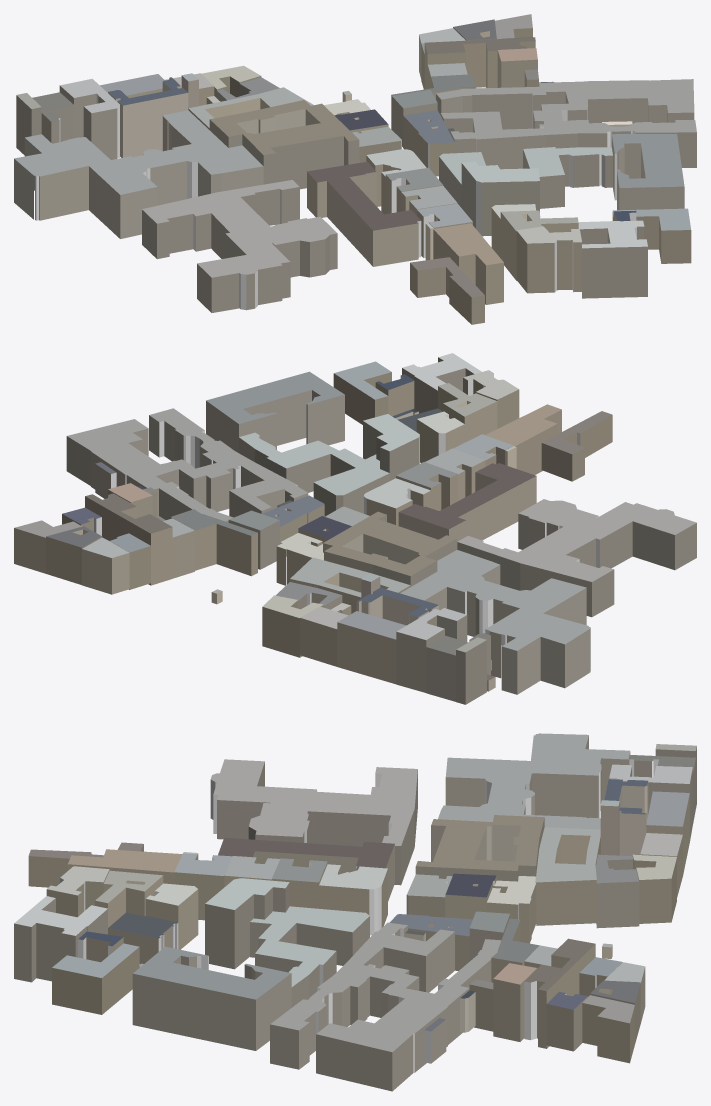
3 renders of one model, top to bottom at view 1: azimuth 30°, elevation 25°; view 2: azimuth 150°, elevation 25°; view 3: azimuth 270°, elevation 25°, orthographic. The views are drawn at different scales.
Parts seen in each view (by area): view 1: tuile; view 2: tuile; view 3: tuile.
Part boxes in pixels (x1=…): tuile: x1=14, y1=14, x2=696, y2=324; tuile: x1=14, y1=353, x2=696, y2=704; tuile: x1=14, y1=733, x2=696, y2=1091.
Bounding box in the file's own units: 285 × 33.49 × 258.
